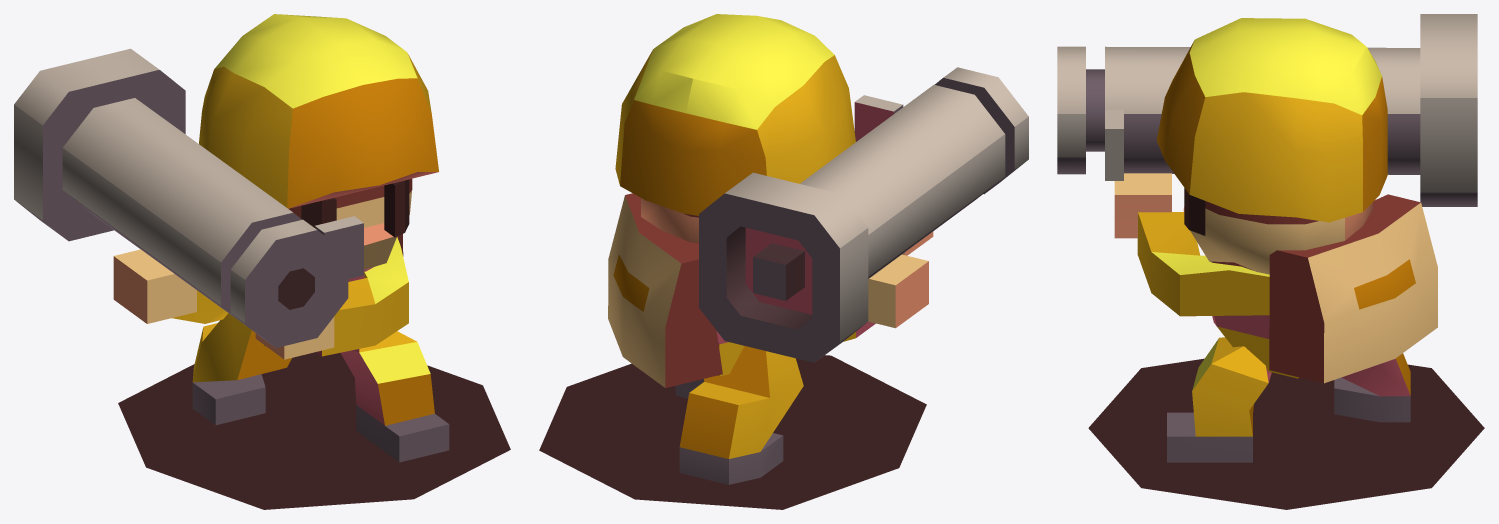
The model's file is MechMesh.YellowComet.glb.
3 views of the same model, side by side, from view 1: azimuth 30°, elevation 25°; view 2: azimuth 150°, elevation 25°; view 3: azimuth 270°, elevation 25° (orthographic).
Visible parts, largest first — view 1: MechMesh.YellowComet; view 2: MechMesh.YellowComet; view 3: MechMesh.YellowComet.
Part boxes in pixels (x1=…): MechMesh.YellowComet: x1=14, y1=14, x2=510, y2=509; MechMesh.YellowComet: x1=539, y1=14, x2=1028, y2=509; MechMesh.YellowComet: x1=1057, y1=14, x2=1484, y2=509.
Bounding box in the file's own units: 2.24 × 2.3 × 2.24.
1 material, 1 textured.
